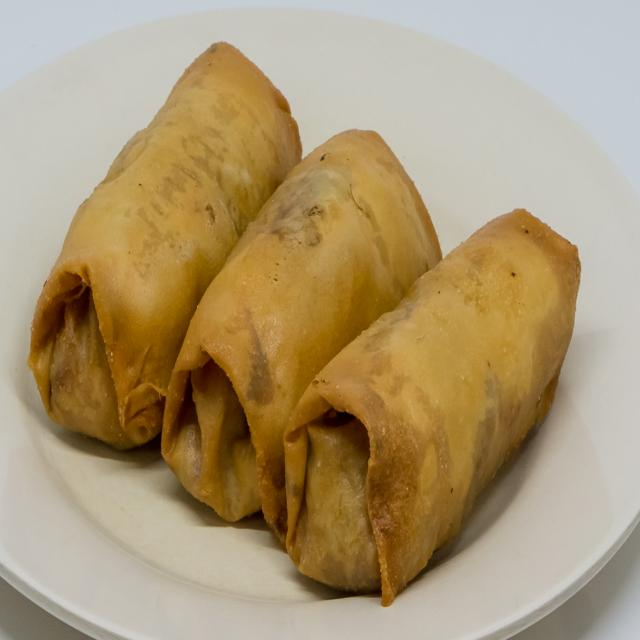Lumpia-Semarang: (21, 22, 592, 609)
